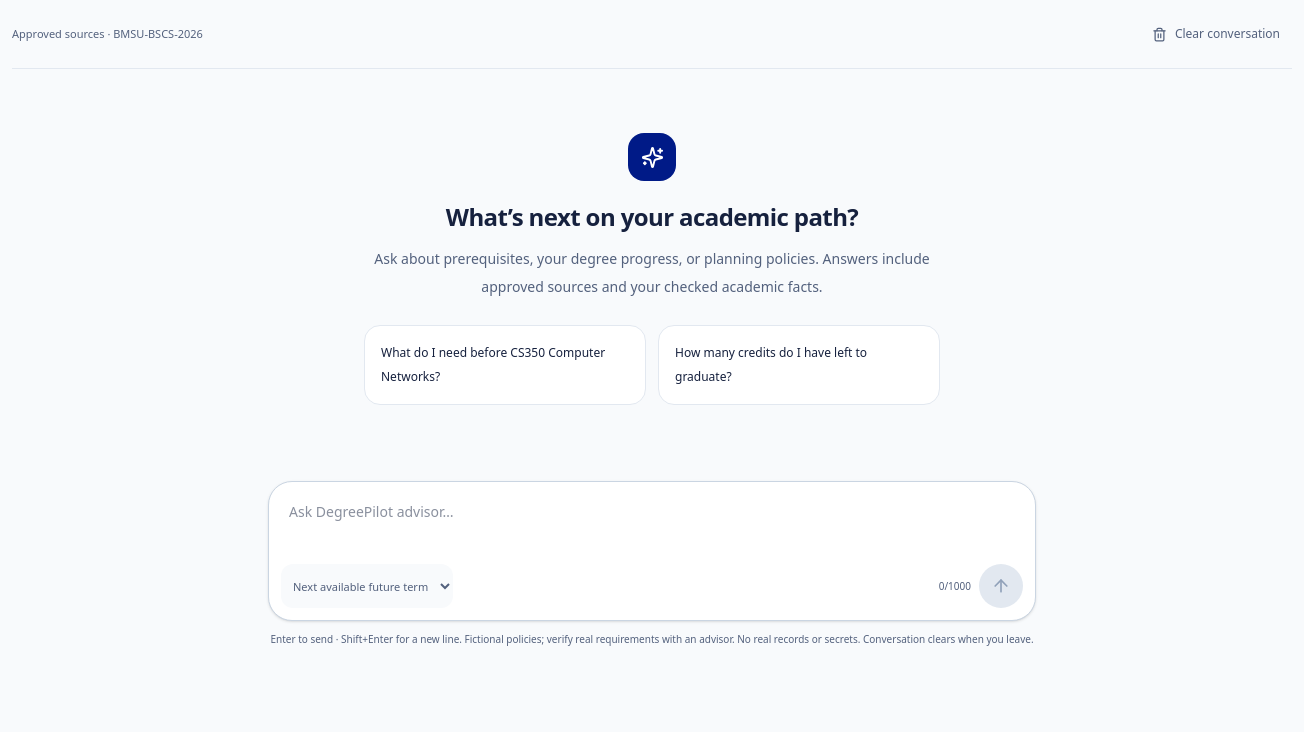
renders abstention and markup as plain text without invented citation links
Type "Transfer policy?" into the text box named "Your question" at (652, 526), box [281, 494, 1023, 558]
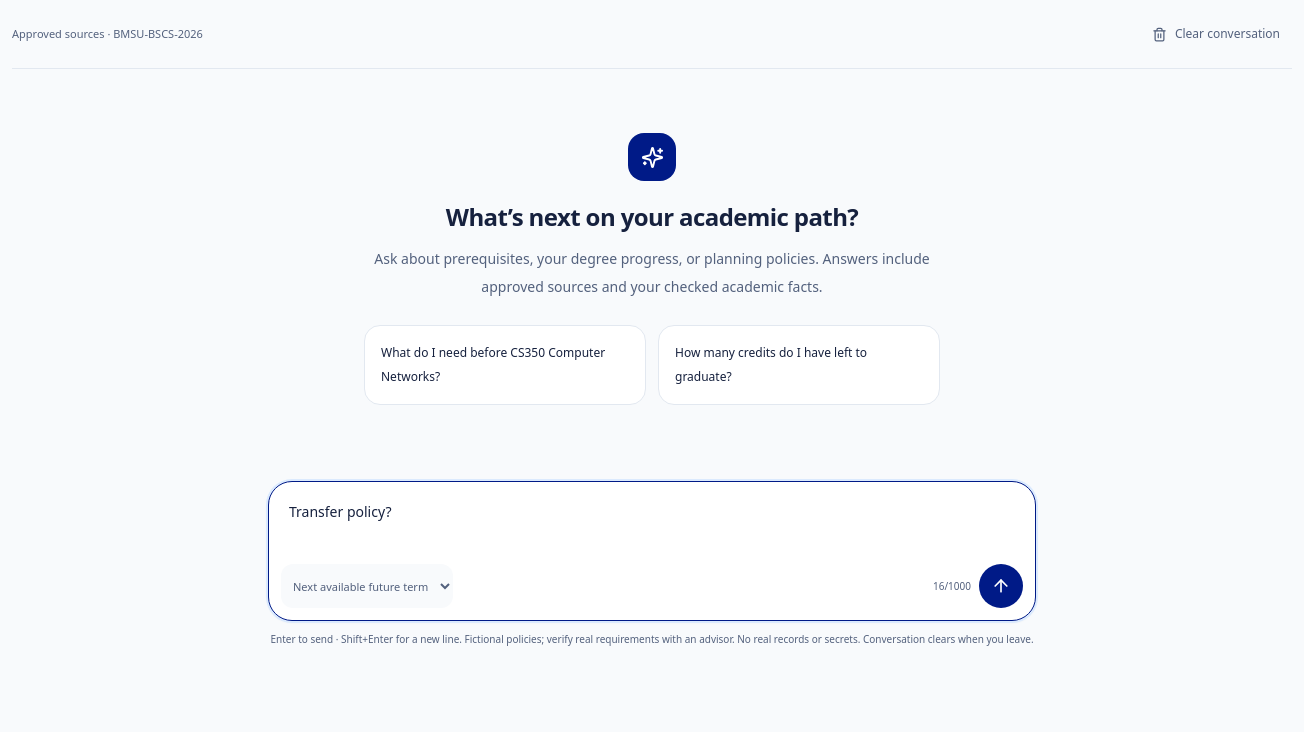
Click the button named "Send question" at (1001, 586), box [979, 564, 1023, 608]
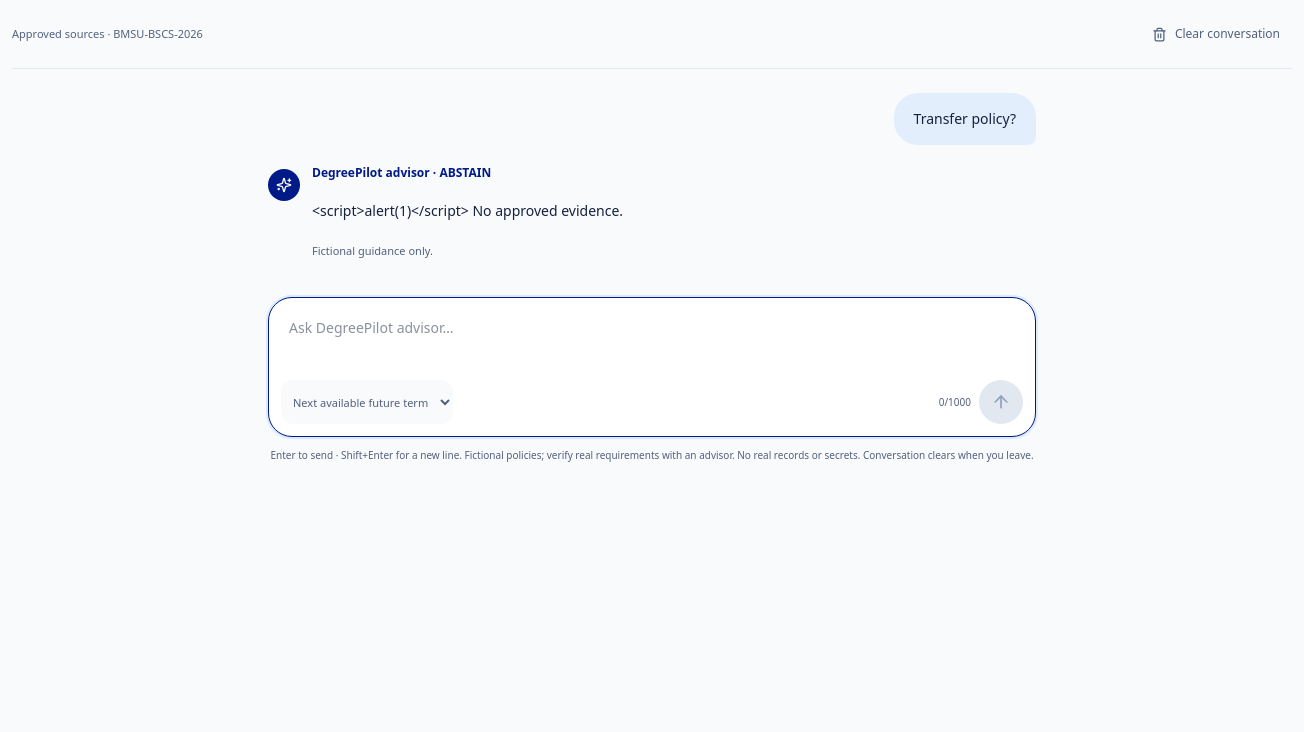
Expected: the text "<script>alert(1)</script> No approved evidence." is shown, [312, 201, 623, 220]
